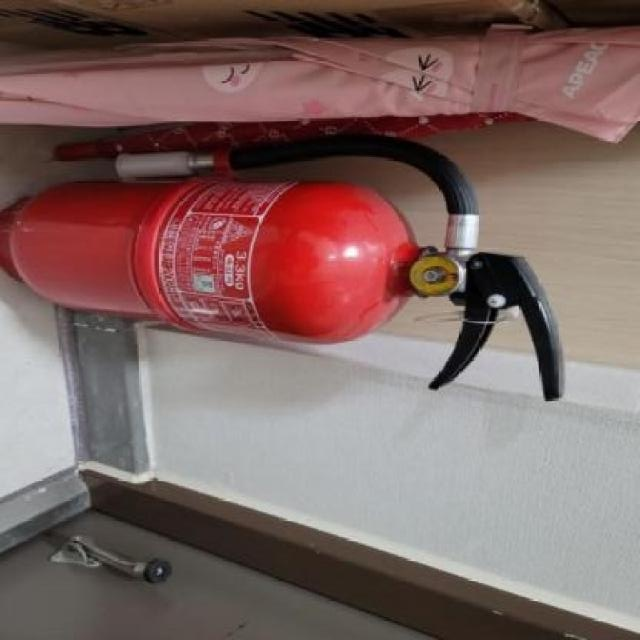fire extinguisher: (0, 131, 566, 402)
